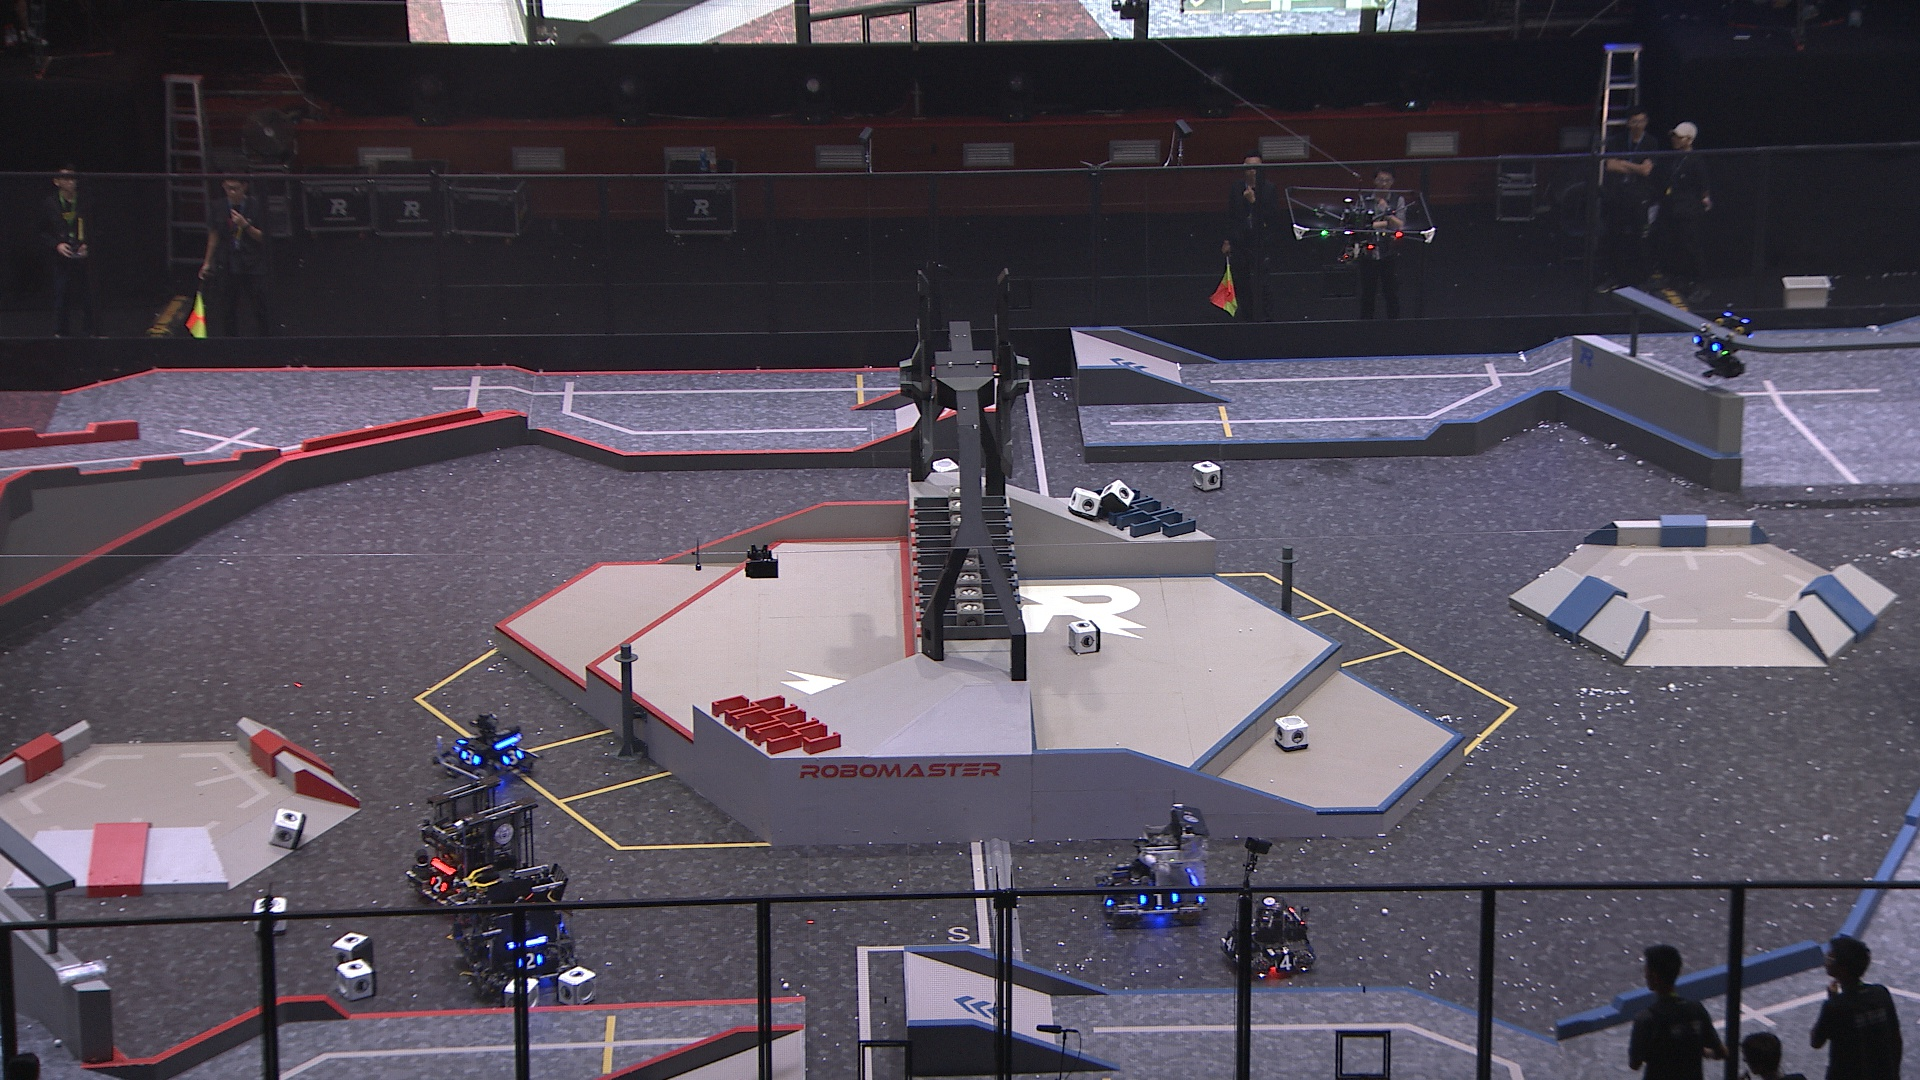armor: (1135, 889, 1178, 911), (516, 949, 545, 973), (1271, 953, 1299, 975), (498, 746, 526, 767), (458, 746, 484, 767), (1695, 332, 1720, 353), (429, 870, 451, 893), (1098, 889, 1117, 913), (1222, 934, 1238, 953)
car: (452, 849, 579, 993), (404, 783, 542, 907), (1091, 806, 1215, 930), (433, 711, 545, 789), (1221, 891, 1321, 975)
watcher: (1691, 301, 1760, 380)
